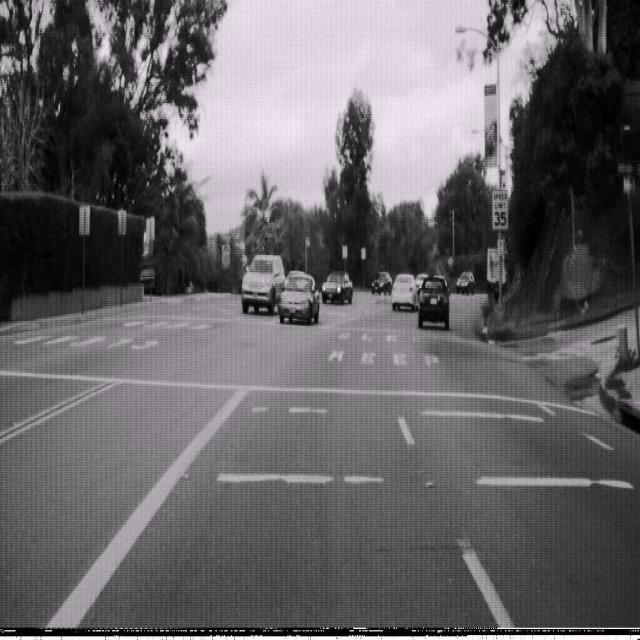speedLimit35: (491, 188, 508, 230)
